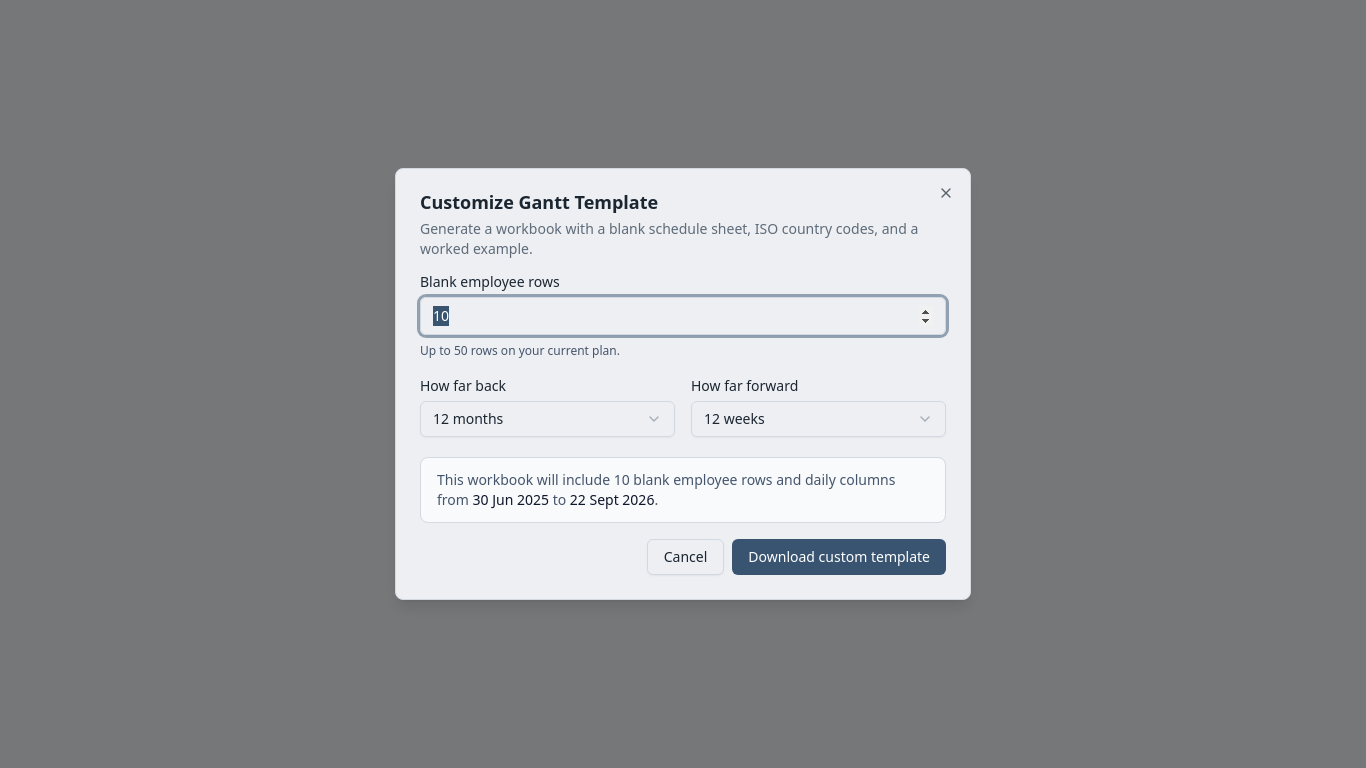
GanttTemplateDialog › disables download when employee rows are invalid
Replace the text in the number field labelled "Blank employee rows" with "0" at [683, 316], box [420,297,946,335]
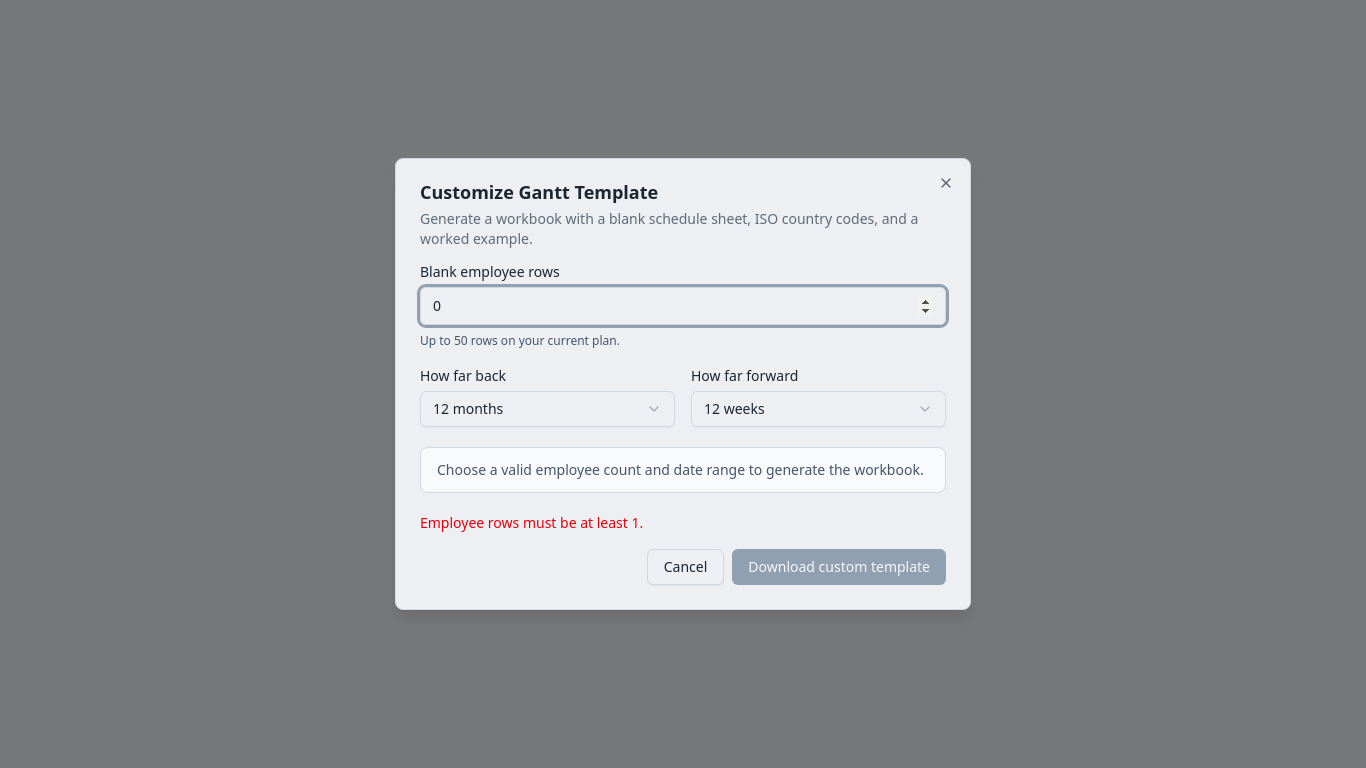
Expected: the text "Employee rows must be at least 1." is shown, [420,513,643,532]
Expected: the button "Download custom template" is disabled, [732,549,946,585]
